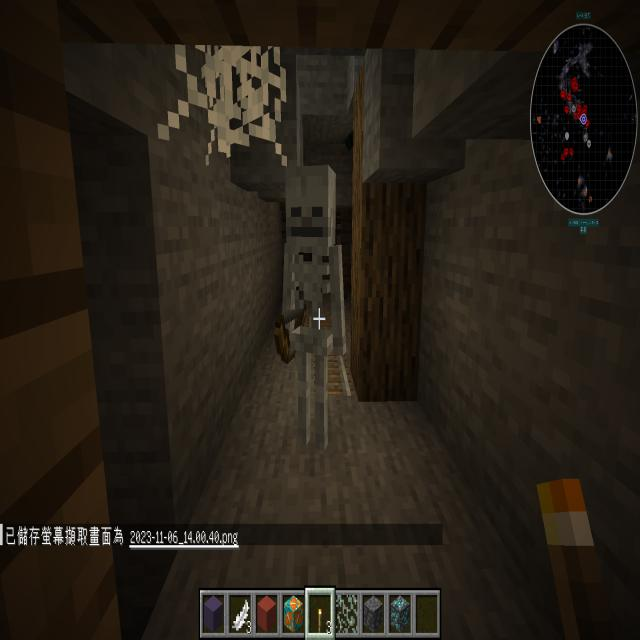Skeleton: (269, 152, 359, 464)
